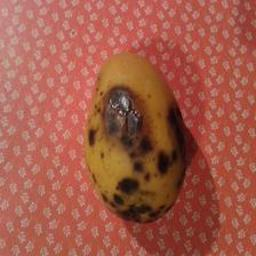Mango Rotten: (79, 49, 198, 233)
